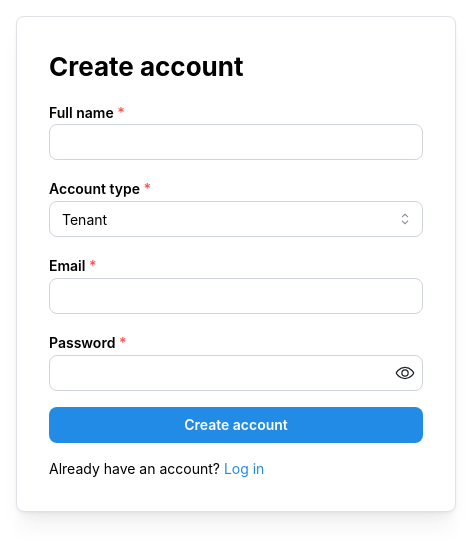
Scenario: AuthPage › rejects passwords shorter than Better Auth minimum
The image size is (473, 557).
Type "short" into the password field labelled "Password *" at (236, 373), box x1=50 y1=356 x2=422 y2=390
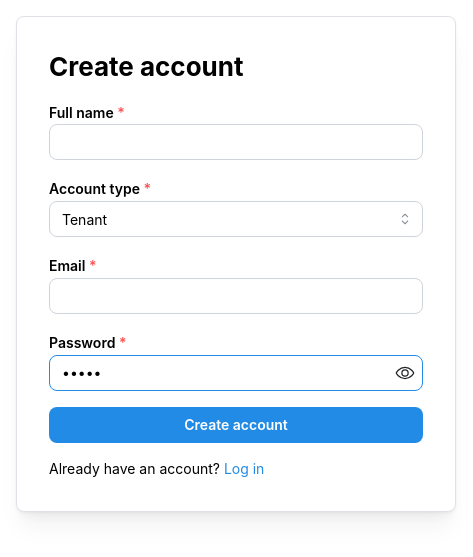
Click the button "Create account" at (236, 425), box x1=49 y1=407 x2=423 y2=443
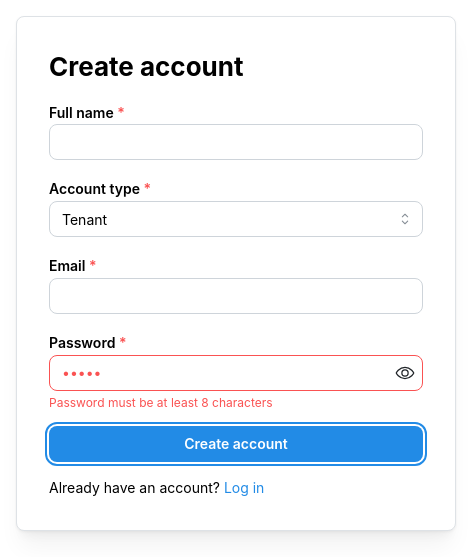
Expected: the text "Password must be at least 8 characters" is shown, x1=49 y1=395 x2=273 y2=410
